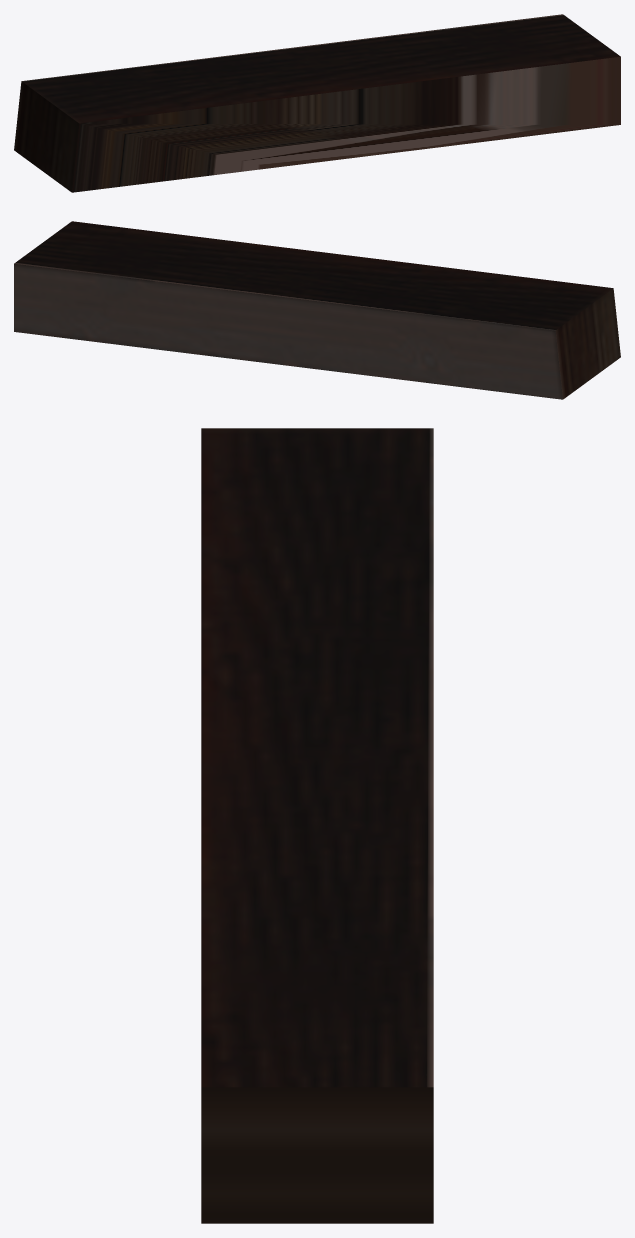
The model's file is engel1.fbx.
3 views of the same model, one above another, from view 1: azimuth 30°, elevation 25°; view 2: azimuth 150°, elevation 25°; view 3: azimuth 270°, elevation 25° (orthographic). The views are drawn at different scales.
Visible parts, largest first — view 1: Medieval Table; view 2: Medieval Table; view 3: Medieval Table.
Boxes of the visible parts, <box> form: Medieval Table: <box>14,14,620,192</box>; Medieval Table: <box>14,221,620,399</box>; Medieval Table: <box>201,428,433,1223</box>.
Size of the model in its own units: 42.2 by 9.8 by 7.72.
